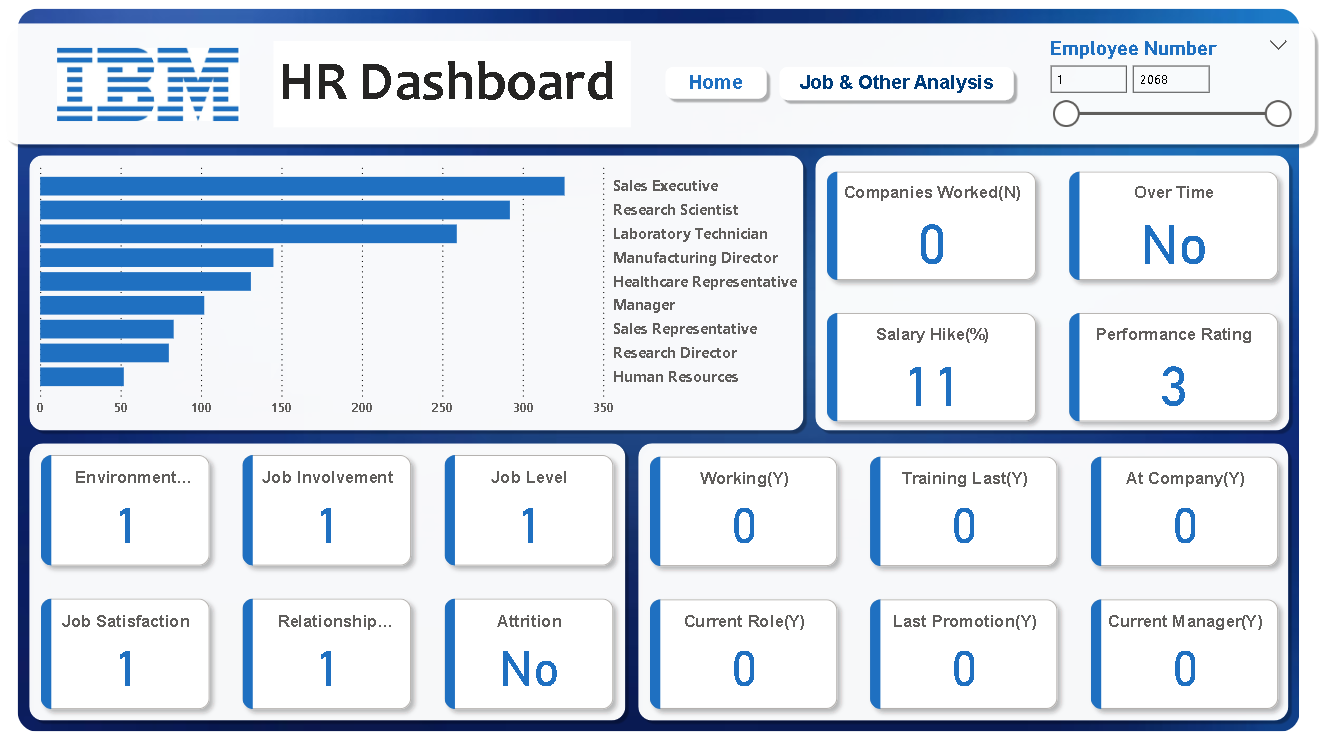

What the dashboard file says about the page in this screenshot:
{"tool":"powerbi","page":{"name":"Job & Other Analysis","canvas":[1280,720],"ordinal":1},"visuals":[{"type":"image","box":[20,11.7,1240,700],"z":0},{"type":"shape","box":[26,426,588,280],"z":1000},{"type":"shape","box":[0,19.8,1280.2,129.2],"z":2000},{"type":"image","box":[53.3,43.3,186.7,83.3],"z":3000},{"type":"textbox","box":[268.3,43.3,345,83.3],"z":4000},{"type":"shape","box":[26,148,760,278],"z":5000},{"type":"shape","box":[640,62.9,110,42.9],"z":6000},{"type":"shape","box":[751.4,62.9,238.6,44.3],"z":7000},{"type":"clusteredBarChart","fields":{"Category":["IBM_HR_Cleaned.JobRole"],"Y":["CountNonNull(IBM_HR_Cleaned.JobRole)"]},"box":[34,152,752,264],"z":8000},{"type":"shape","box":[786,148,470,278],"z":9000},{"type":"cardVisual","fields":{"Data":["Min(IBM_HR_Cleaned.EnvironmentSatisfaction)","Min(IBM_HR_Cleaned.JobInvolvement)","Min(IBM_HR_Cleaned.JobLevel)","Min(IBM_HR_Cleaned.JobSatisfaction)","Min(IBM_HR_Cleaned.RelationshipSatisfaction)","Min(IBM_HR_Cleaned.Attrition)"]},"box":[26,426,588,280],"z":10000},{"type":"slicer","fields":{"Values":["IBM_HR_Cleaned.EmployeeNumber"]},"box":[1005.7,32.9,254.3,150],"z":11000},{"type":"cardVisual","fields":{"Data":["Min(IBM_HR_Cleaned.NumCompaniesWorked)","Min(IBM_HR_Cleaned.OverTime)","Min(IBM_HR_Cleaned.PercentSalaryHike)","Min(IBM_HR_Cleaned.PerformanceRating)"]},"box":[786,152,470,276],"z":12000},{"type":"shape","box":[614,426,640,280],"z":12001},{"type":"cardVisual","fields":{"Data":["Min(IBM_HR_Cleaned.TotalWorkingYears)","Min(IBM_HR_Cleaned.TrainingTimesLastYear)","Min(IBM_HR_Cleaned.YearsAtCompany)","Min(IBM_HR_Cleaned.YearsInCurrentRole)","Min(IBM_HR_Cleaned.YearsSinceLastPromotion)","Min(IBM_HR_Cleaned.YearsWithCurrManager)"]},"box":[614,428,642,278],"z":12002}]}

Visuals, with their boxes in screenshot pixels (x1, y1, x2, y2), scaled from the page's 1280x720 canvas onto the 1319x738 screenshot:
image: left=21, top=12, right=1298, bottom=729
shape: left=27, top=437, right=633, bottom=724
shape: left=0, top=20, right=1318, bottom=153
image: left=55, top=44, right=247, bottom=130
textbox: left=276, top=44, right=632, bottom=130
shape: left=27, top=152, right=810, bottom=437
shape: left=660, top=64, right=773, bottom=108
shape: left=774, top=64, right=1020, bottom=110
clusteredBarChart - IBM_HR_Cleaned.JobRole x CountNonNull(IBM_HR_Cleaned.JobRole): left=35, top=156, right=810, bottom=426
shape: left=810, top=152, right=1294, bottom=437
cardVisual - Min(IBM_HR_Cleaned.EnvironmentSatisfaction) x Min(IBM_HR_Cleaned.JobInvolvement): left=27, top=437, right=633, bottom=724
slicer - IBM_HR_Cleaned.EmployeeNumber: left=1036, top=34, right=1298, bottom=187
cardVisual - Min(IBM_HR_Cleaned.NumCompaniesWorked) x Min(IBM_HR_Cleaned.OverTime): left=810, top=156, right=1294, bottom=439
shape: left=633, top=437, right=1292, bottom=724
cardVisual - Min(IBM_HR_Cleaned.TotalWorkingYears) x Min(IBM_HR_Cleaned.TrainingTimesLastYear): left=633, top=439, right=1294, bottom=724
